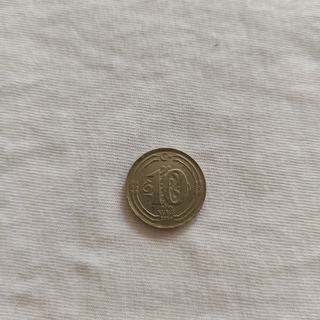10KURUS: (122, 146, 207, 229)
